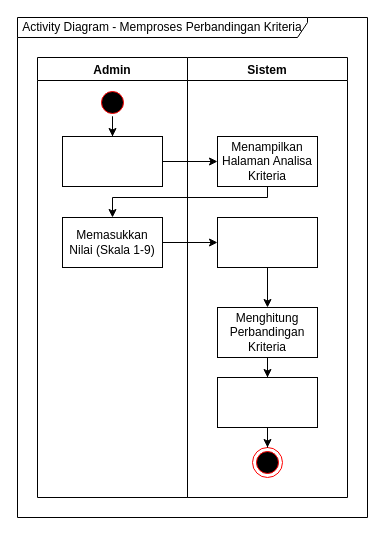
Some shapes in this 385 by 535 pixel diagram are drawn without their labels. Each missing label, with the centre of its shape:
Membuka Menu Perbandingan Kriteria: (112,161)
Menampilkan Perbandingan Kriteria: (267,402)
Menyimpan Data: (267,242)
